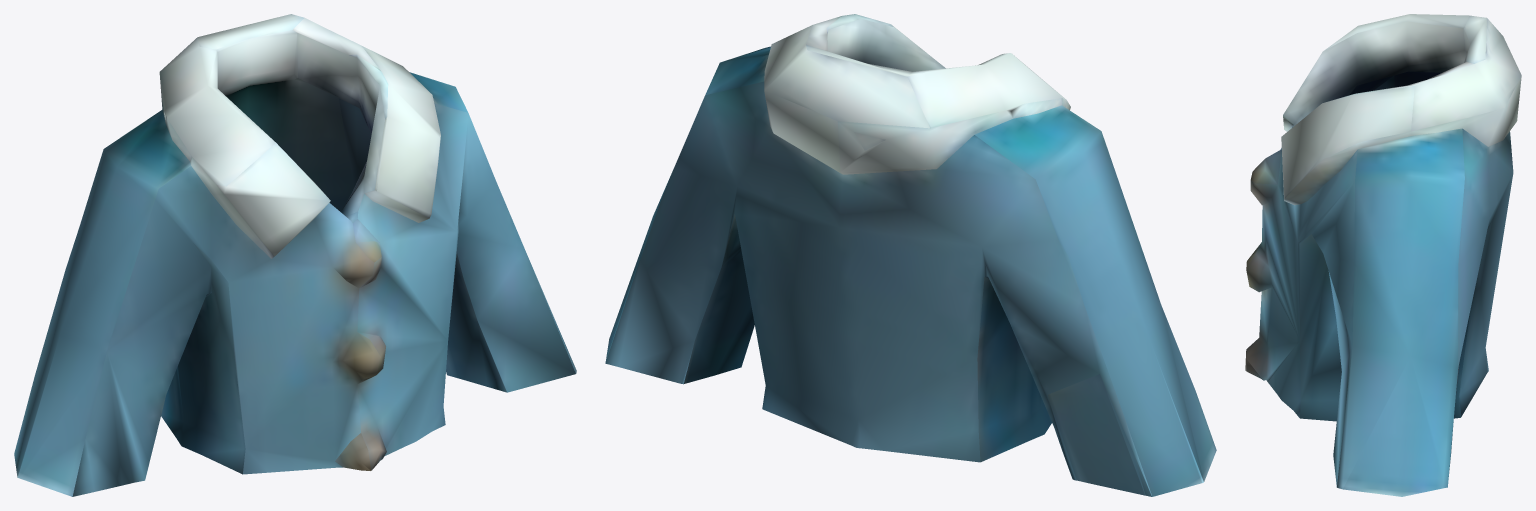
Rendered from costume-louis15.glb.
3 renders of one model, left to right at view 1: azimuth 30°, elevation 25°; view 2: azimuth 150°, elevation 25°; view 3: azimuth 270°, elevation 25°, orthographic. The views are drawn at different scales.
Visible parts, largest first — view 1: material.001; view 2: material.001; view 3: material.001.
Boxes of the visible parts, x1,y1,x2,y2 form: material.001: (14, 14, 576, 496); material.001: (605, 14, 1216, 496); material.001: (1245, 14, 1521, 496).
Bounding box in the file's own units: 0.827 × 0.5111 × 0.3845.
1 material, 1 textured.
